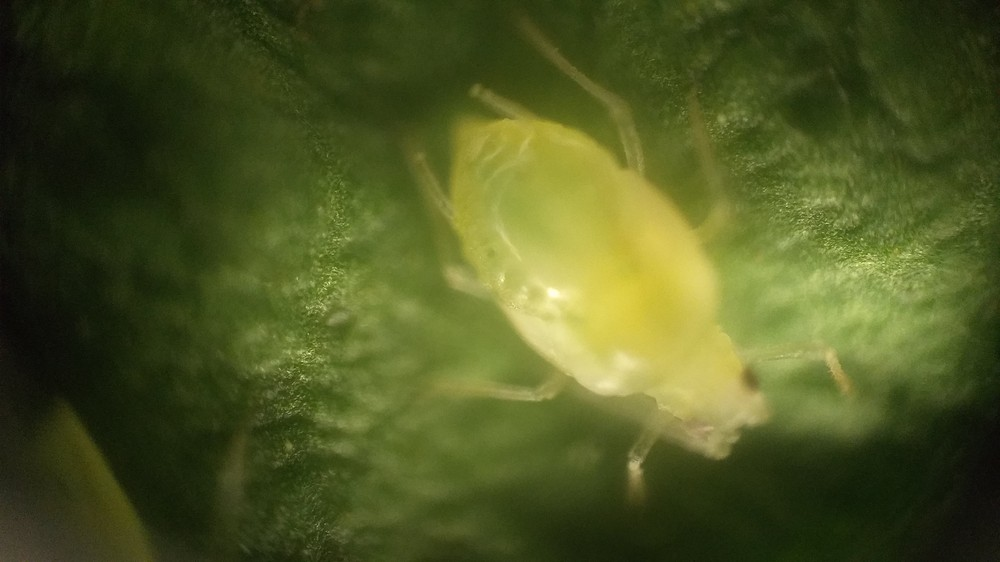Pulgon: (342, 25, 891, 550)
